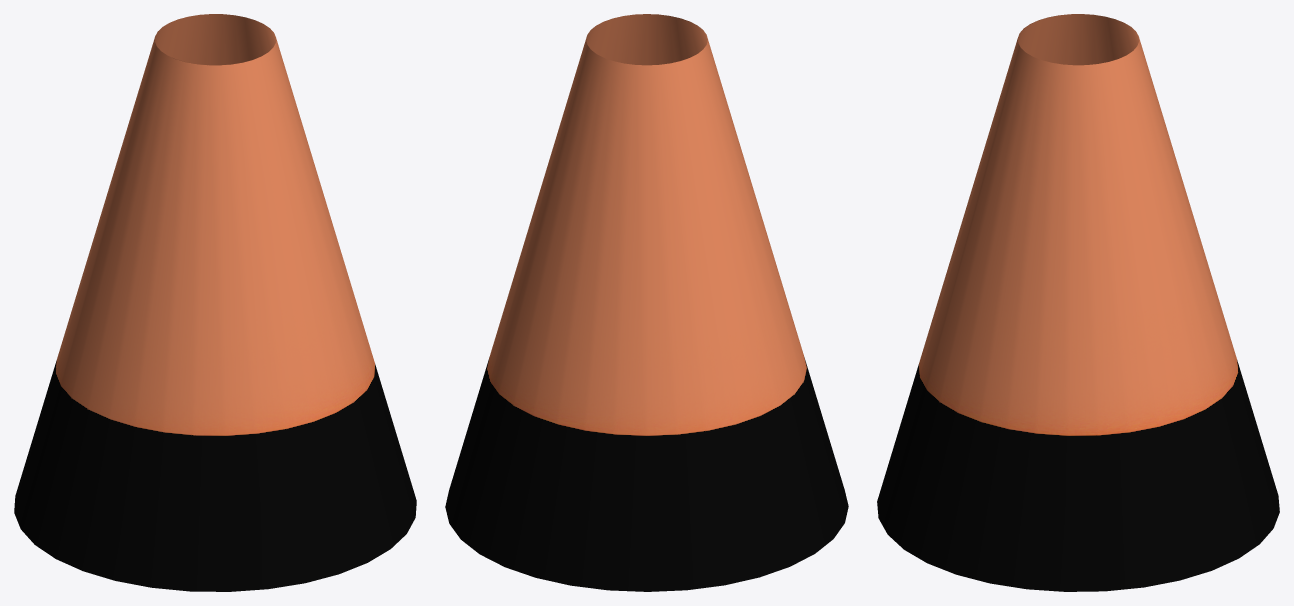
The model's file is ConeHospitalLight.fbx.
3 renders of one model, left to right at view 1: azimuth 30°, elevation 25°; view 2: azimuth 150°, elevation 25°; view 3: azimuth 270°, elevation 25°, orthographic.
Visible parts, largest first — view 1: Cylinder; view 2: Cylinder; view 3: Cylinder.
Part boxes in pixels (x1=…): Cylinder: x1=14, y1=14, x2=416, y2=591; Cylinder: x1=445, y1=14, x2=848, y2=591; Cylinder: x1=877, y1=14, x2=1279, y2=591.
Bounding box in the file's own units: 200 × 255 × 200.
1 material, 1 textured.
